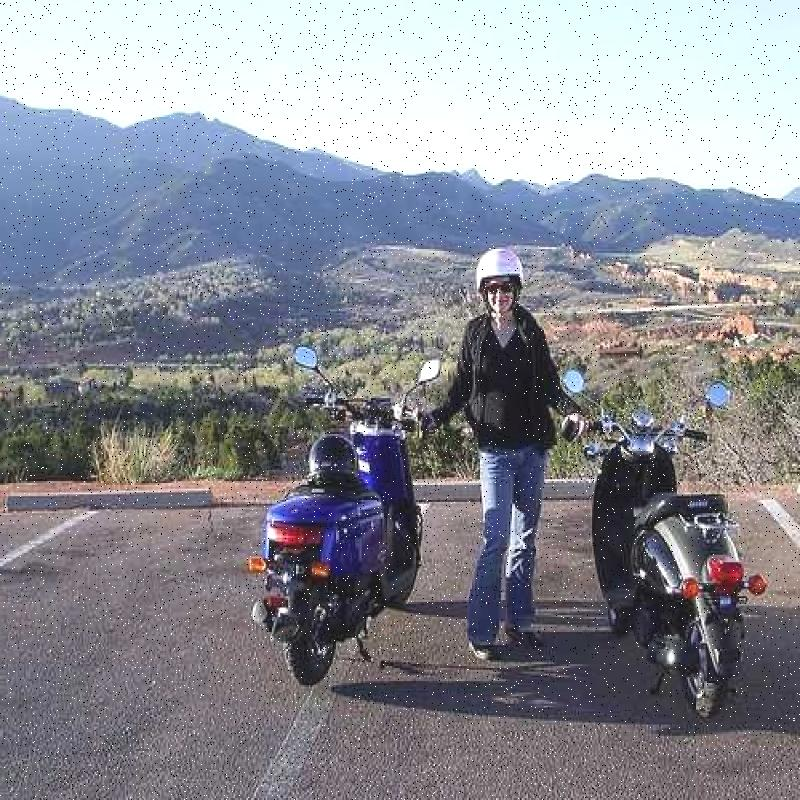bike: (234, 329, 454, 695), (567, 378, 762, 709)
